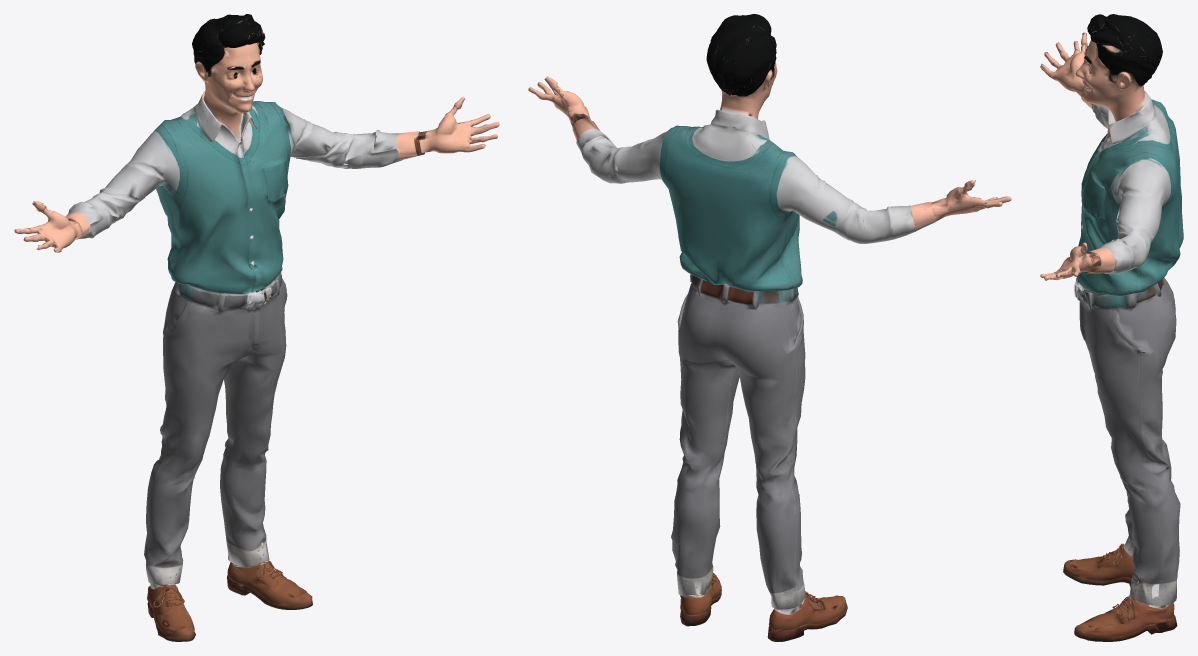
The model's file is char_base_raw.glb.
The picture shows the model from 3 angles, left to right: view 1: azimuth 30°, elevation 25°; view 2: azimuth 150°, elevation 25°; view 3: azimuth 270°, elevation 25°; orthographic projection.
Size of the model in its own units: 0.7974 by 0.9507 by 0.207.
Materials: 1 (1 with a texture image).
